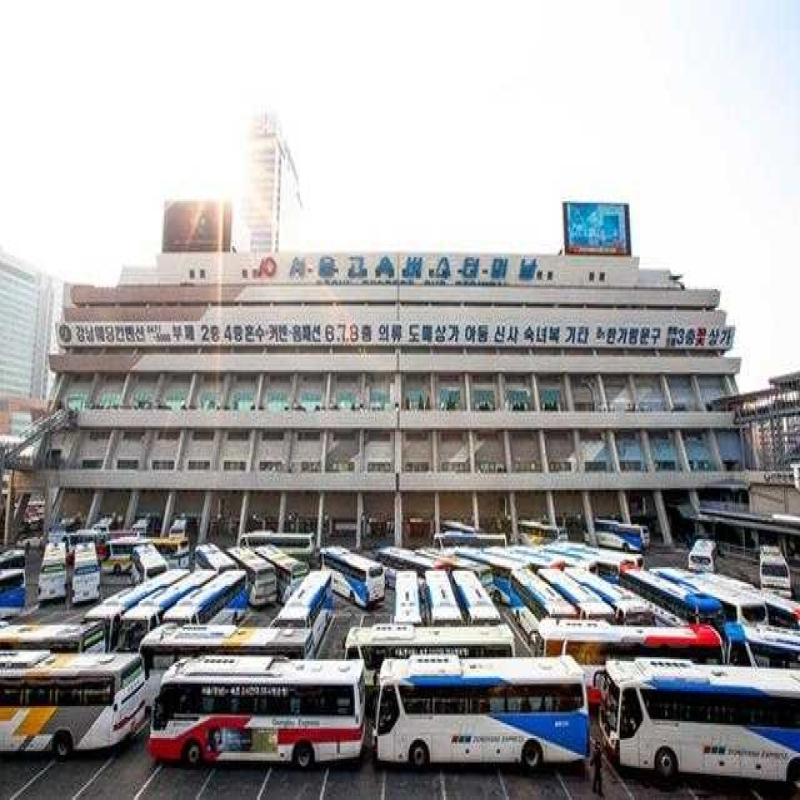bus: (374, 646, 599, 790), (148, 646, 366, 794), (606, 649, 633, 742)
